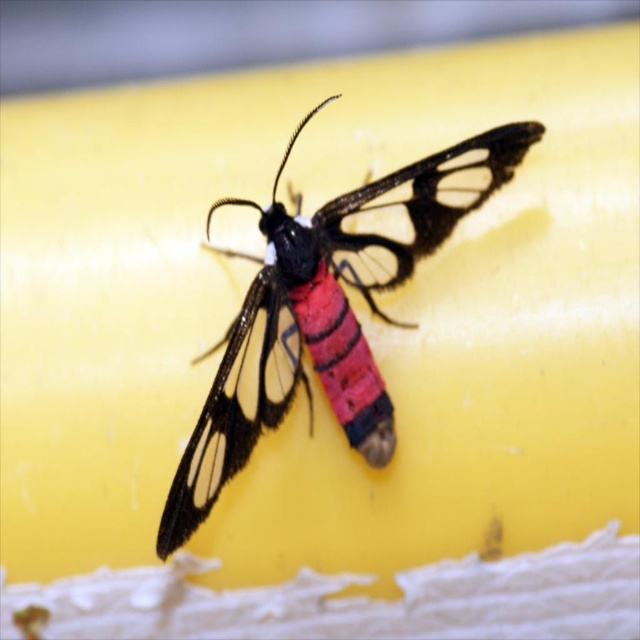Butterfly: (179, 94, 552, 585)
